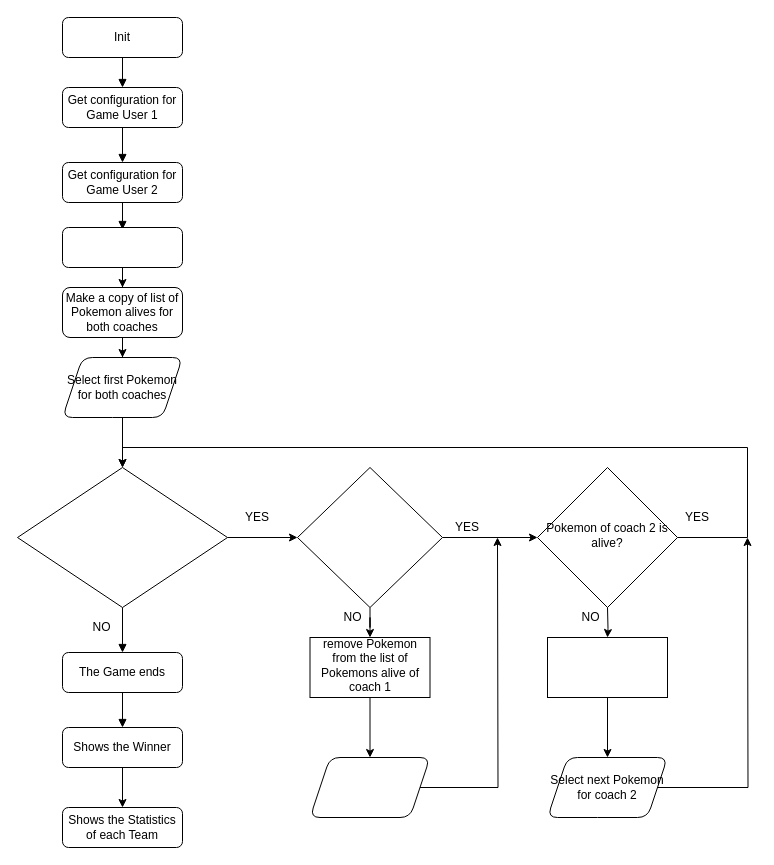
Some shapes in this 774 by 865 pixel diagram are drawn without their labels. The shapes that lost their labels are listed below. From the top down, each one's box as (x1, y1, x2, y2) in pixels, then its label:
(62, 226, 182, 268): The Game starts
(16, 466, 228, 608): Coach 1 is undefeated and Coach 2 is undefeated
(296, 466, 442, 608): Pokemon of coach 1 is alive?
(546, 636, 668, 698): remove Pokemon from the list of Pokemons alive of coach 2
(309, 756, 430, 818): Select next Pokemon for coach 1
